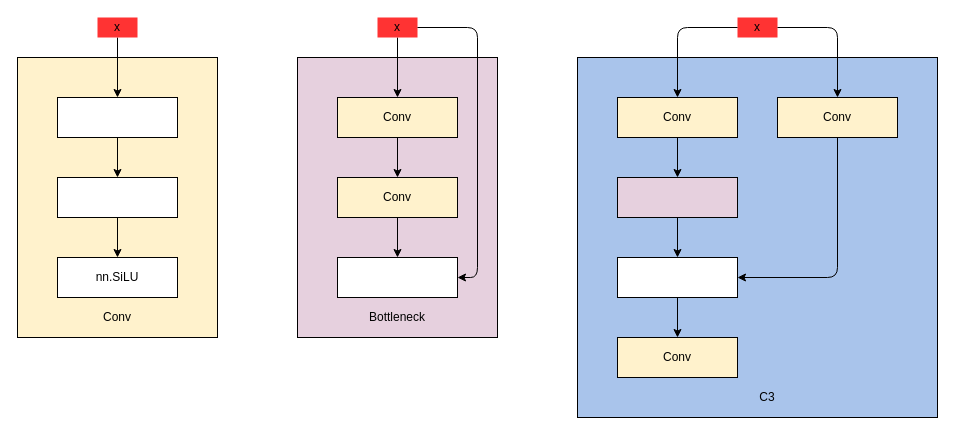
The diagram is 955 pixels wide and 435 high, and some of its shapes have lost their labels. The shapes that lost their labels are listed below. From the top down, each one's centre as x and y in pixels, then its label:
point 117,117: nn.Conv2d
point 117,197: nn.BatchNorm2d
point 677,197: N * Bottleneck
point 397,277: add
point 677,277: torch.cat
